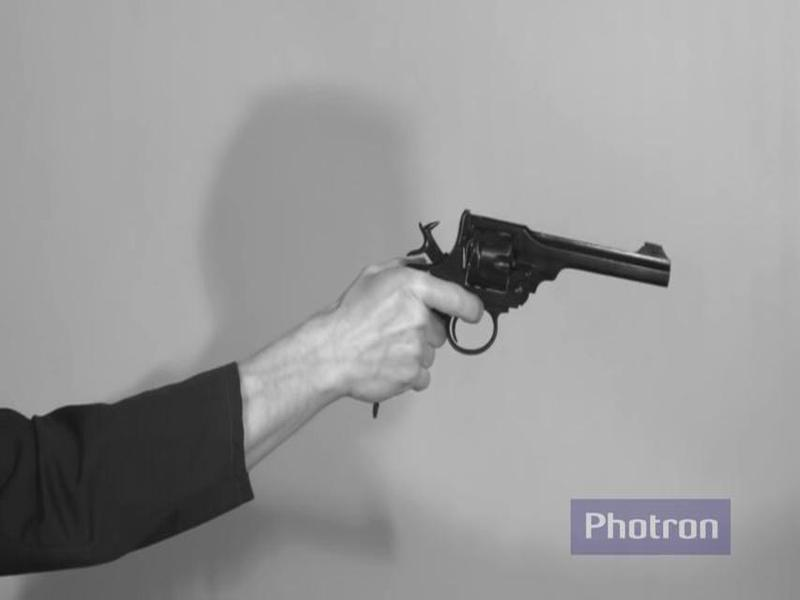Revolver: (367, 192, 691, 429)
